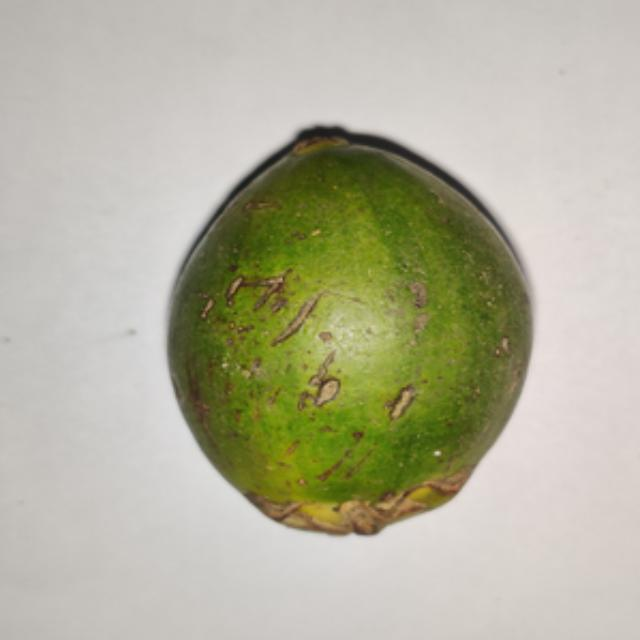damaged: (167, 126, 533, 537)
